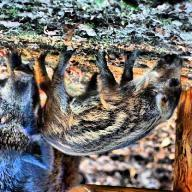boar: (35, 20, 192, 167)
